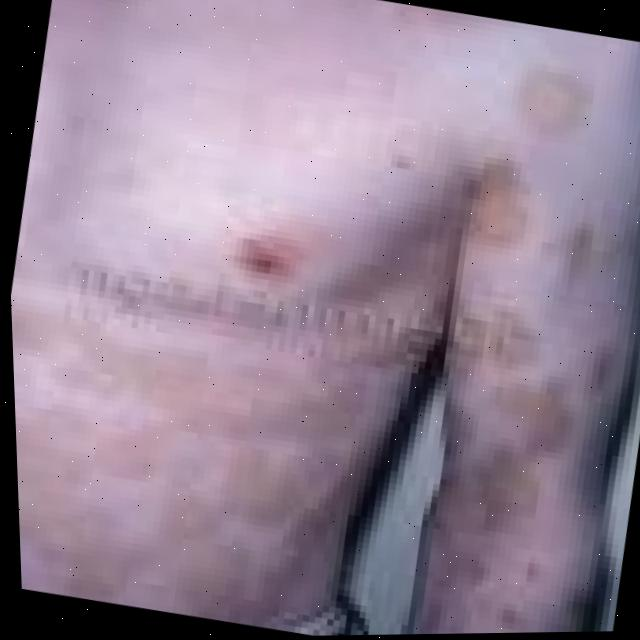Melasma: (395, 52, 640, 634), (11, 295, 398, 640)
